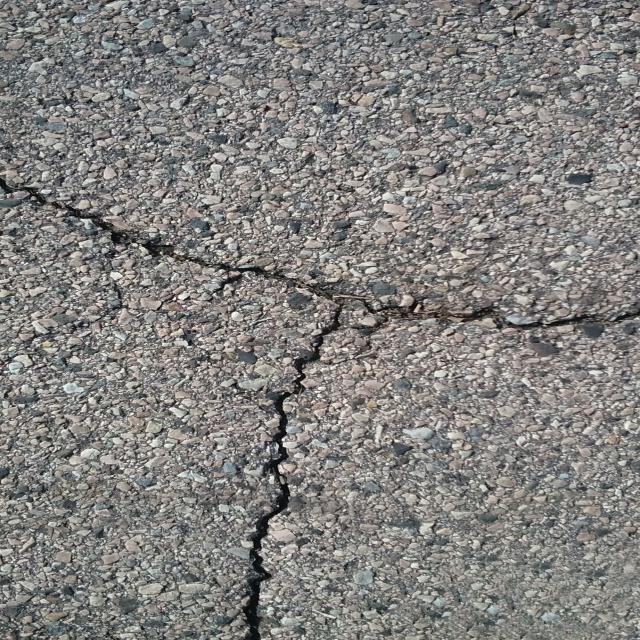Crack: (0, 176, 640, 640)
